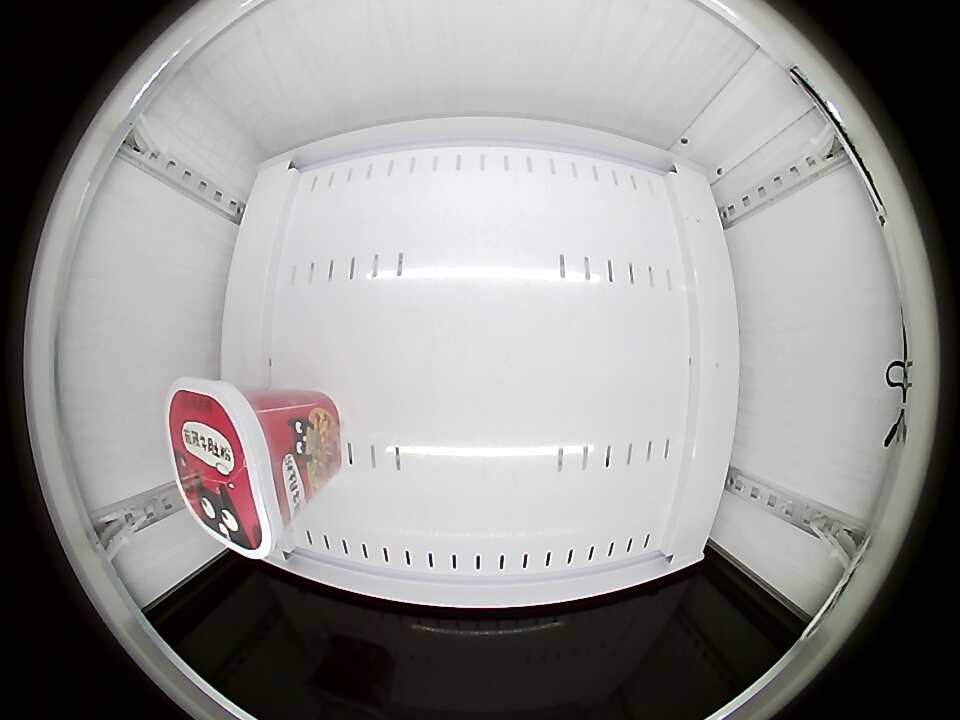niudufen: (168, 380, 298, 558)
